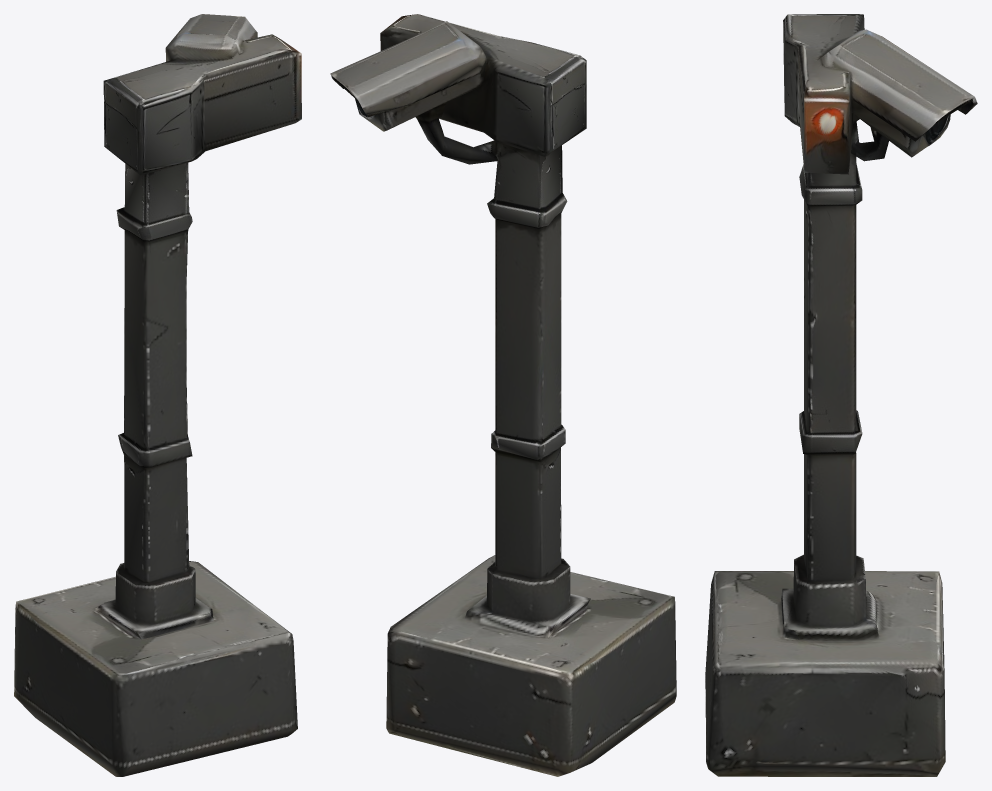
Rendered from tripo_convert_2a05e1fe-0cbe-49ea-9d81-0c996071e233.fbx.
3 renders of one model, left to right at view 1: azimuth 30°, elevation 25°; view 2: azimuth 150°, elevation 25°; view 3: azimuth 270°, elevation 25°, orthographic. The views are drawn at different scales.
Visible parts, largest first — view 1: tripo_node_2a05e1fe; view 2: tripo_node_2a05e1fe; view 3: tripo_node_2a05e1fe.
Boxes of the visible parts, bbox=[...] form: tripo_node_2a05e1fe: bbox=[14, 14, 301, 776]; tripo_node_2a05e1fe: bbox=[330, 14, 676, 776]; tripo_node_2a05e1fe: bbox=[705, 14, 977, 776].
Size of the model in its own units: 0.3796 by 1 by 0.3403.
1 material, 1 textured.
